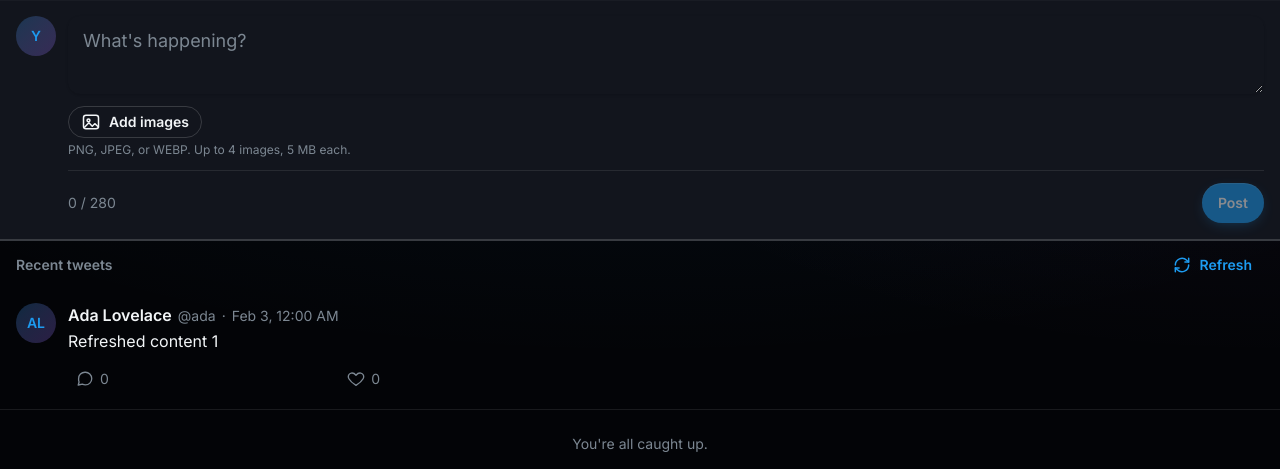
Test case: Feed › refresh replaces the feed with a fresh first page
Check: the text "Refreshed content 1" is shown, box [68, 331, 218, 351]
Click the button "Refresh".
click(1212, 265)  # box [1160, 249, 1264, 281]
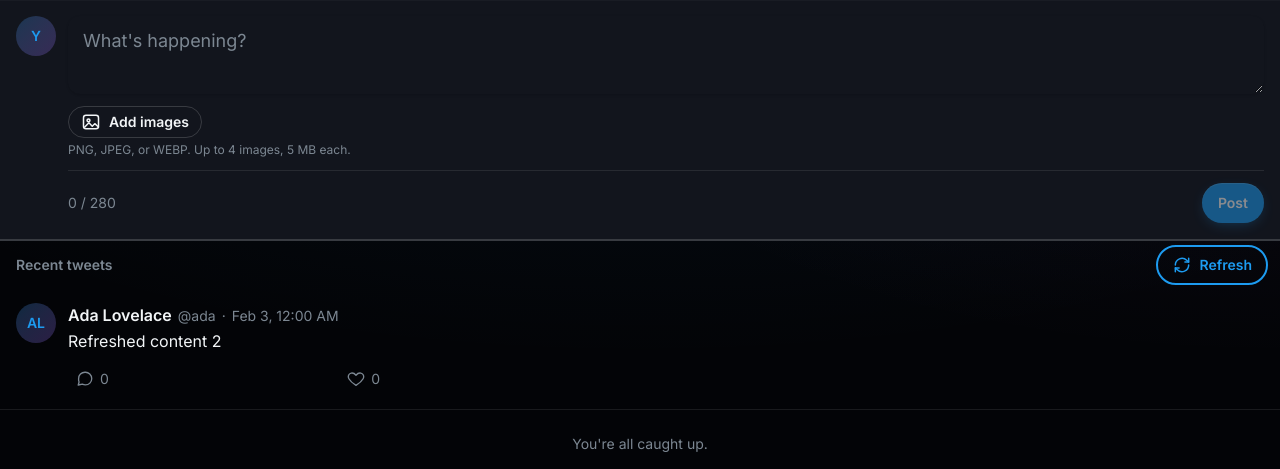
Check: the text "Refreshed content 2" is shown, box [68, 331, 222, 351]
Check: the text "Refreshed content 1" is gone
